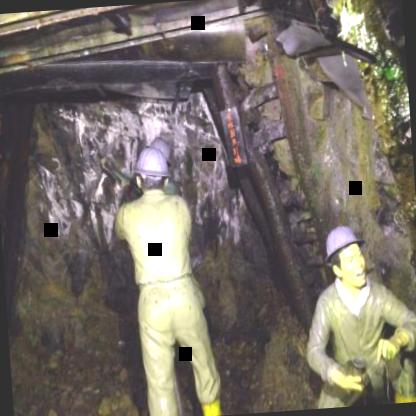helmet: (322, 219, 370, 294), (131, 143, 176, 199)
